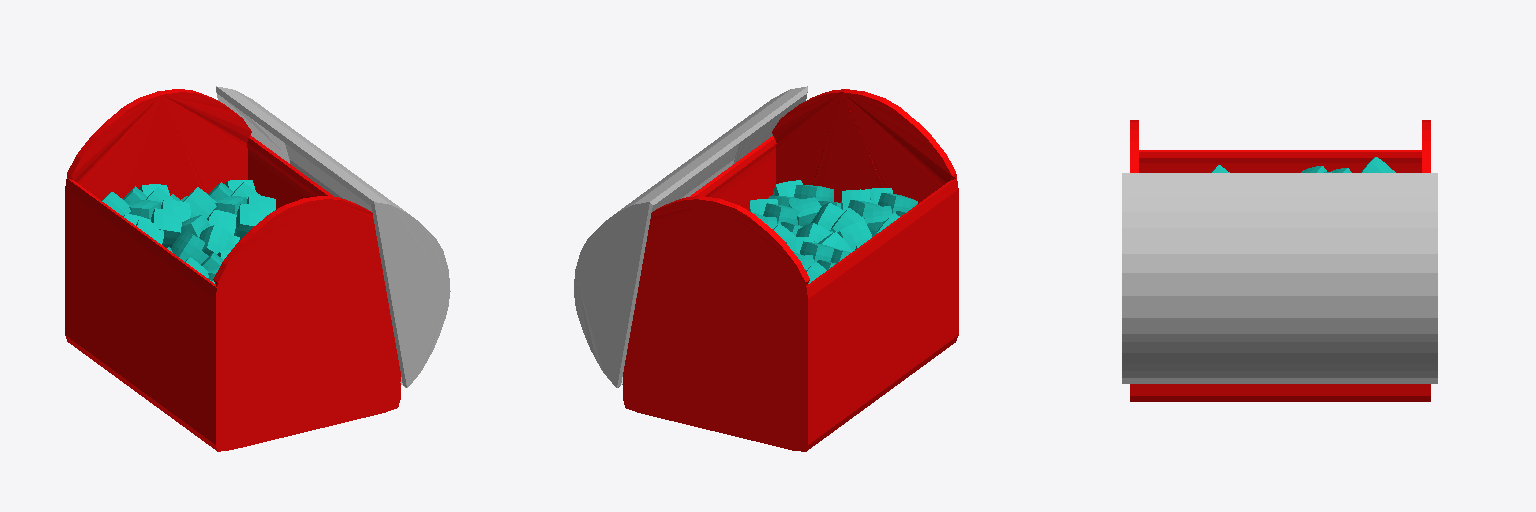
Rendered from cooler.obj.
3 renders of one model, left to right at view 1: azimuth 30°, elevation 25°; view 2: azimuth 150°, elevation 25°; view 3: azimuth 270°, elevation 25°, orthographic.
Visible parts, largest first — view 1: Cooler, Lid, Cube; view 2: Cooler, Lid, Cube; view 3: Lid, Cooler, Cube.
Part boxes in pixels (bbox=[...]): Cooler: bbox=[65, 89, 400, 451]; Lid: bbox=[216, 86, 450, 387]; Cube: bbox=[102, 180, 275, 283]; Cooler: bbox=[623, 89, 958, 451]; Lid: bbox=[574, 86, 807, 387]; Cube: bbox=[750, 180, 917, 283]; Lid: bbox=[1122, 173, 1437, 383]; Cooler: bbox=[1130, 120, 1430, 401]; Cube: bbox=[1211, 157, 1395, 172].
Size of the model in its own units: 2.4 by 2.28 by 2.84.